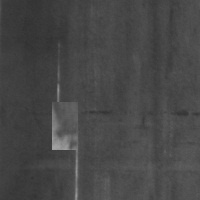patches: (52, 102, 78, 150)
scratches: (52, 41, 62, 117), (71, 126, 81, 199)
